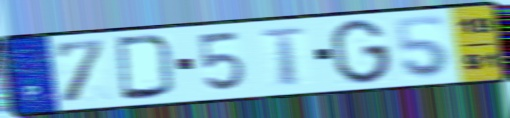5: (393, 12, 454, 81), (195, 30, 248, 93)
7: (54, 37, 109, 105)
D: (113, 34, 179, 102)
G: (329, 17, 393, 86)
T: (258, 26, 311, 88)
